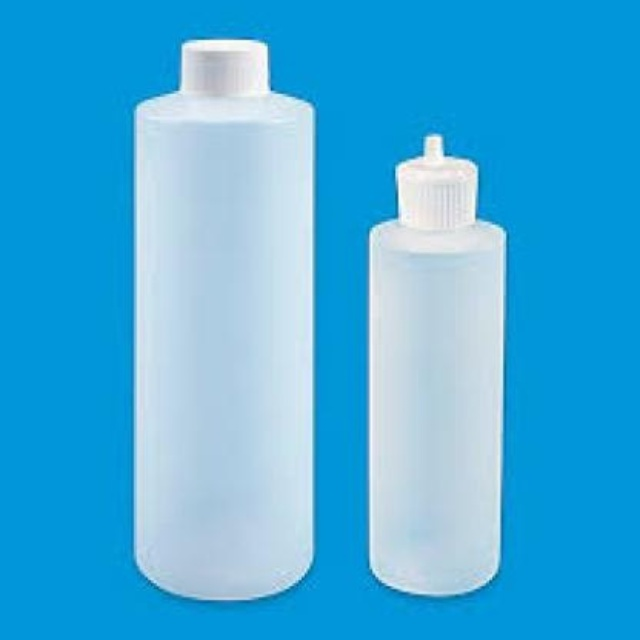trash: (135, 40, 312, 598), (369, 135, 503, 594)
